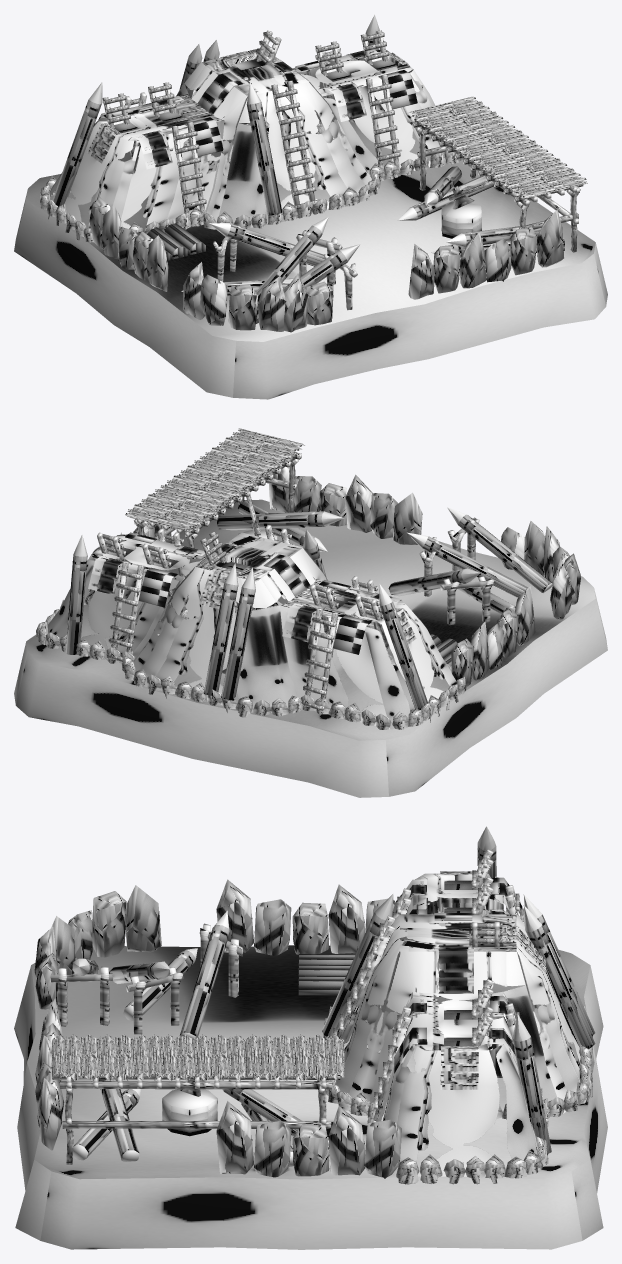
The model's file is arsenal_bk.dae.
The picture shows the model from 3 angles, top to bottom: view 1: azimuth 30°, elevation 25°; view 2: azimuth 150°, elevation 25°; view 3: azimuth 270°, elevation 25°; orthographic projection. The views are drawn at different scales.
Visible parts, largest first — view 1: arsenal; view 2: arsenal; view 3: arsenal.
Boxes of the visible parts, box(x1,y1,x2,y2) form: arsenal: box(14, 14, 607, 399); arsenal: box(14, 428, 607, 797); arsenal: box(14, 826, 607, 1249).
Size of the model in its own units: 26.98 by 27.6 by 11.68.
